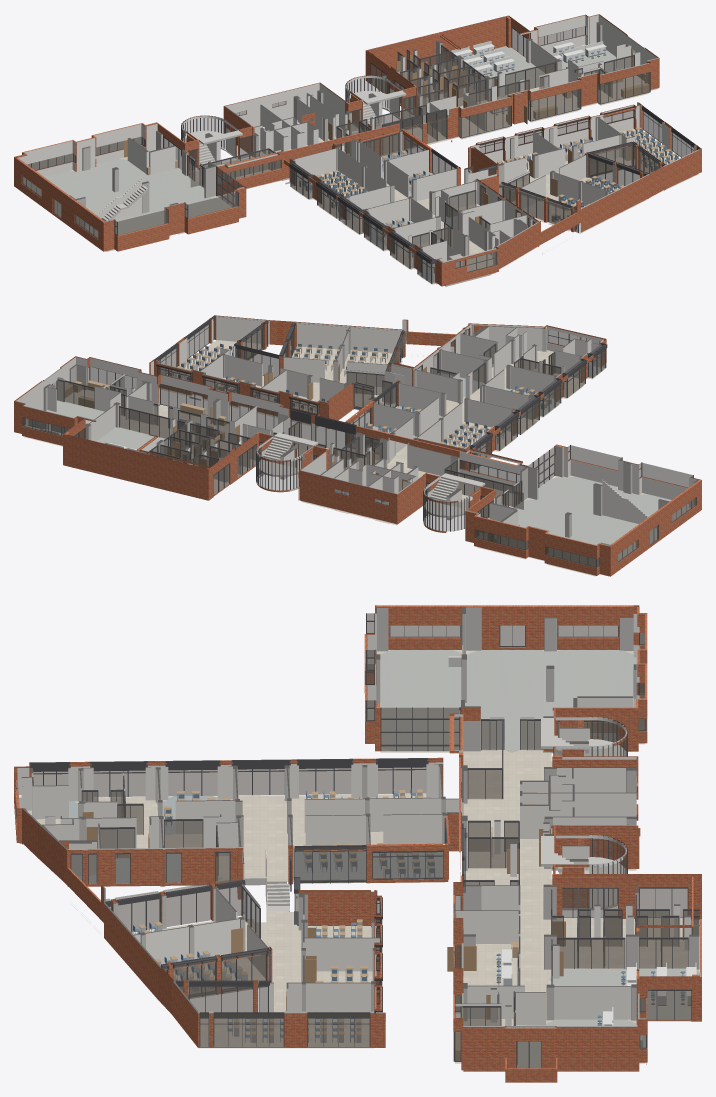
The model's file is floor-2.glb.
3 renders of one model, top to bottom at view 1: azimuth 30°, elevation 25°; view 2: azimuth 150°, elevation 25°; view 3: azimuth 270°, elevation 25°, orthographic. The views are drawn at different scales.
Visible parts, largest first — view 1: P2_Fachada_Compartida, P2_B_Walls, P2_A_Walls, P2_A_Glass, P2_A_Floor_Zones, P2_B_Glass, P2_B_Floor_Slab, P2_A_Floor_Slab, P2_A_Columns, P2_B_Columns, P2_A_Glass_Mullions, P2_B_Glass_Mullions (+17 smaller); view 2: P2_Fachada_Compartida, P2_B_Walls, P2_A_Walls, P2_A_Glass, P2_A_Floor_Zones, P2_B_Glass, P2_B_Floor_Slab, P2_A_Columns, P2_A_Floor_Slab, P2_B_Columns, P2_A_Glass_Mullions, P2_B_Glass_Mullions (+21 smaller); view 3: P2_Fachada_Compartida, P2_B_Walls, P2_A_Floor_Zones, P2_B_Glass, P2_A_Walls, P2_A_Floor_Slab, P2_B_Floor_Slab, P2_A_Glass, P2_A_Columns, P2_A_Fachada_Oeste_Mamposteria, P2_B_Columns, P2_B_Floor_Zones (+18 smaller).
Part boxes in pixels (left/top/right/bottom): P2_Fachada_Compartida: left=14, top=14, right=701, bottom=286; P2_B_Walls: left=295, top=118, right=635, bottom=282; P2_A_Walls: left=108, top=36, right=640, bottom=232; P2_A_Glass: left=164, top=28, right=633, bottom=187; P2_A_Floor_Zones: left=27, top=45, right=623, bottom=237; P2_B_Glass: left=291, top=134, right=658, bottom=283; P2_B_Floor_Slab: left=285, top=128, right=698, bottom=286; P2_A_Floor_Slab: left=28, top=45, right=648, bottom=251; P2_A_Columns: left=23, top=22, right=646, bottom=226; P2_B_Columns: left=292, top=116, right=623, bottom=264; P2_A_Glass_Mullions: left=163, top=27, right=634, bottom=186; P2_B_Glass_Mullions: left=290, top=133, right=655, bottom=283; P2_Fachada_Compartida: left=14, top=315, right=701, bottom=576; P2_B_Walls: left=200, top=317, right=600, bottom=457; P2_A_Walls: left=47, top=373, right=697, bottom=543; P2_A_Glass: left=57, top=378, right=521, bottom=518; P2_A_Floor_Zones: left=26, top=400, right=689, bottom=565; P2_B_Glass: left=236, top=325, right=605, bottom=469; P2_B_Floor_Slab: left=159, top=340, right=603, bottom=470; P2_A_Columns: left=43, top=364, right=699, bottom=547; P2_A_Floor_Slab: left=24, top=390, right=688, bottom=576; P2_B_Columns: left=220, top=325, right=600, bottom=468; P2_A_Glass_Mullions: left=63, top=379, right=522, bottom=517; P2_B_Glass_Mullions: left=235, top=324, right=606, bottom=469; P2_Fachada_Compartida: left=14, top=605, right=701, bottom=1082; P2_B_Walls: left=21, top=763, right=443, bottom=1012; P2_A_Floor_Zones: left=368, top=650, right=700, bottom=1067; P2_B_Glass: left=33, top=767, right=445, bottom=1012; P2_A_Walls: left=375, top=608, right=690, bottom=1025; P2_A_Floor_Slab: left=368, top=650, right=699, bottom=1064; P2_B_Floor_Slab: left=19, top=794, right=438, bottom=1048; P2_A_Glass: left=462, top=720, right=699, bottom=1025; P2_A_Columns: left=376, top=607, right=699, bottom=1020; P2_A_Fachada_Oeste_Mamposteria: left=388, top=619, right=619, bottom=649; P2_B_Columns: left=25, top=764, right=448, bottom=1011; P2_B_Floor_Zones: left=69, top=795, right=442, bottom=883.
Size of the model in its own units: 79.06 by 5.59 by 53.17.
23 materials, 4 textured.
